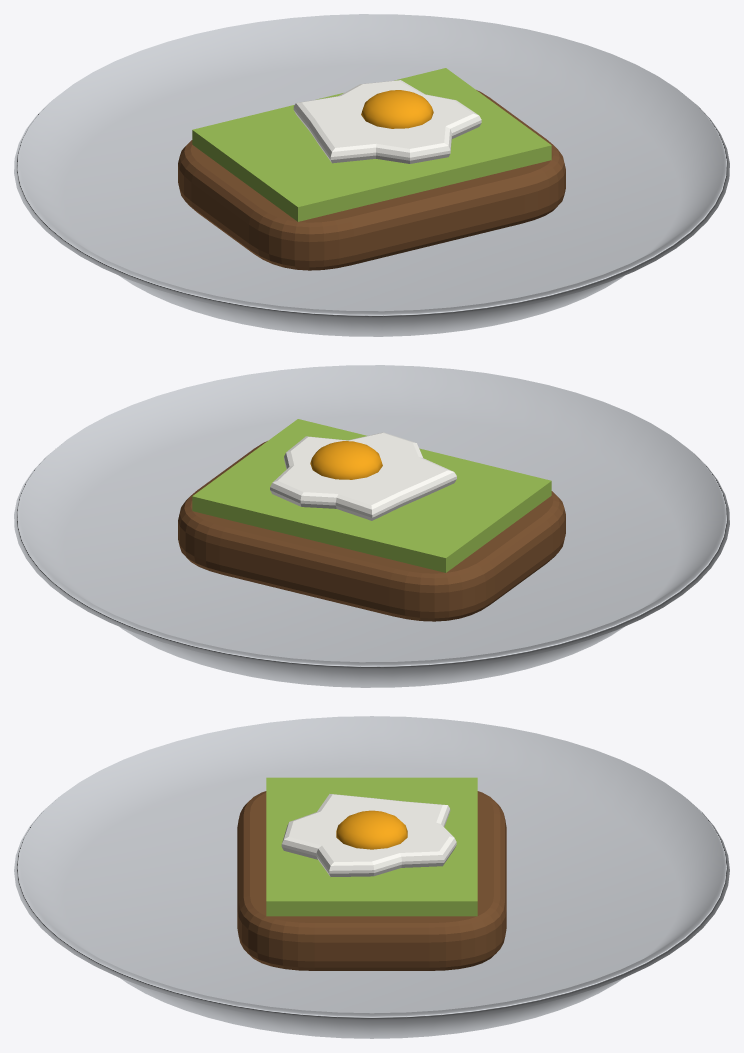
The model's file is mezzogiorno-avocado-toast.glb.
3 renders of one model, top to bottom at view 1: azimuth 30°, elevation 25°; view 2: azimuth 150°, elevation 25°; view 3: azimuth 270°, elevation 25°, orthographic.
Size of the model in its own units: 0.22 by 0.0377 by 0.22.
